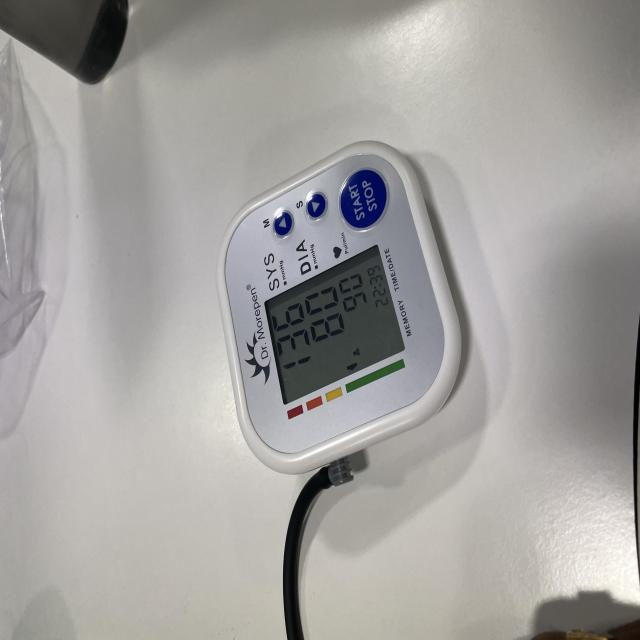bp: (216, 143, 459, 477)
